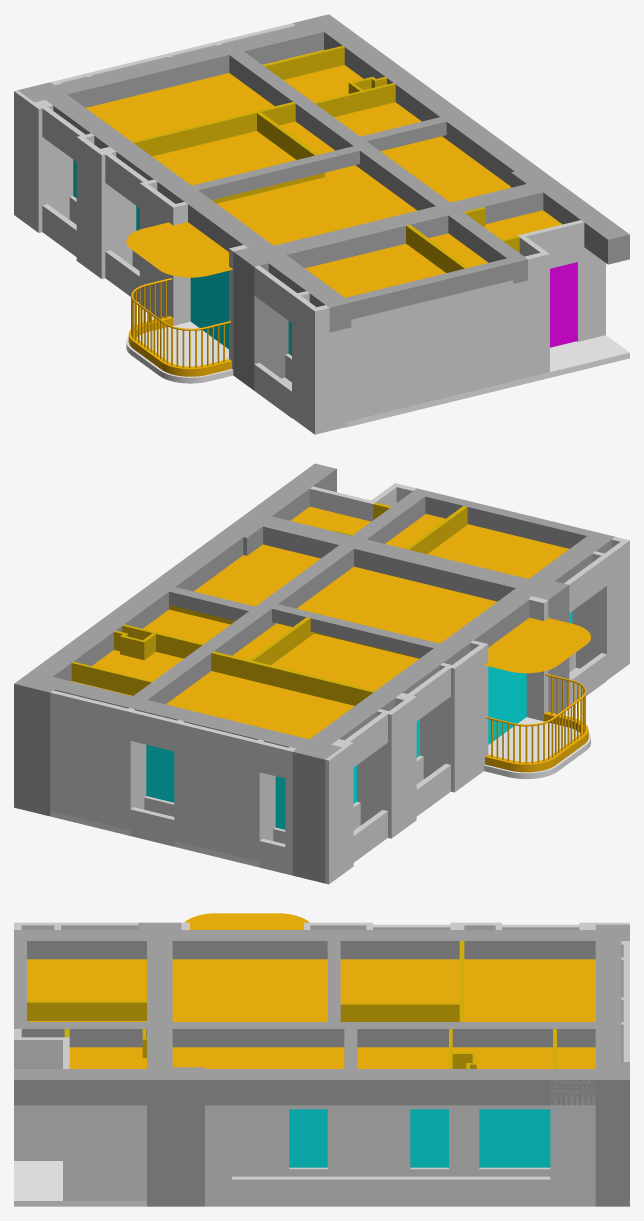
3 renders of one model, top to bottom at view 1: azimuth 30°, elevation 25°; view 2: azimuth 150°, elevation 25°; view 3: azimuth 270°, elevation 25°, orthographic. The views are drawn at different scales.
Size of the model in its own units: 10.19 by 3.25 by 14.32.
